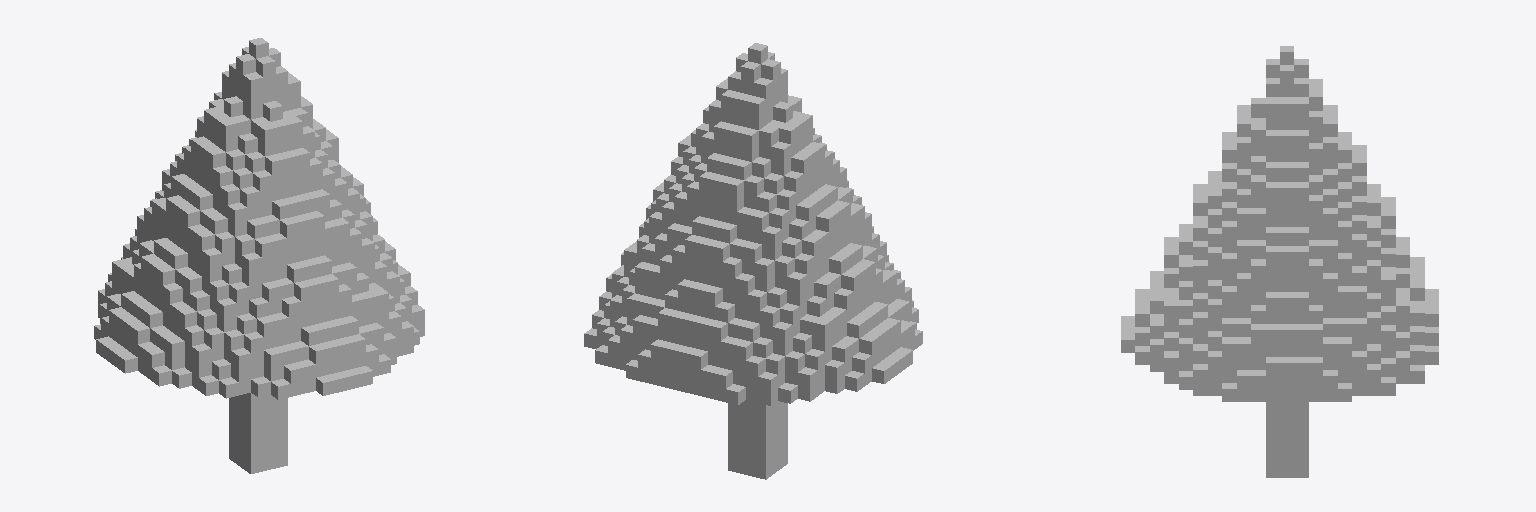
File: pinheiro.obj
3 renders of one model, left to right at view 1: azimuth 30°, elevation 25°; view 2: azimuth 150°, elevation 25°; view 3: azimuth 270°, elevation 25°, orthographic.
Visible parts, largest first — view 1: pinheiro; view 2: pinheiro; view 3: pinheiro.
Part boxes in pixels (bbox=[...]): pinheiro: bbox=[94, 38, 424, 473]; pinheiro: bbox=[584, 43, 922, 479]; pinheiro: bbox=[1121, 46, 1438, 477].
Size of the model in its own units: 22 by 32 by 22.